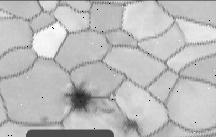good_void: (68, 81, 93, 110), (121, 117, 138, 130), (34, 111, 51, 123)
